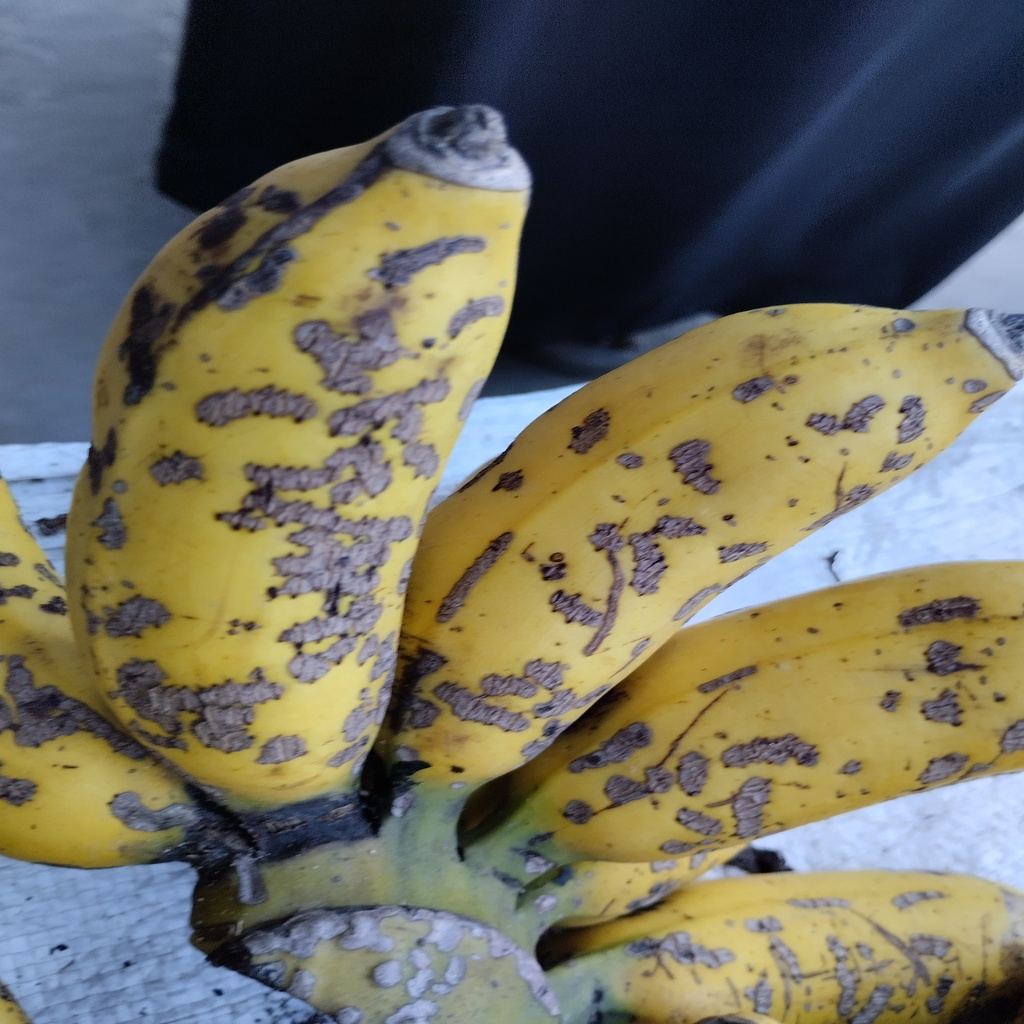unhealthy: (64, 121, 525, 834), (386, 305, 1016, 805)
